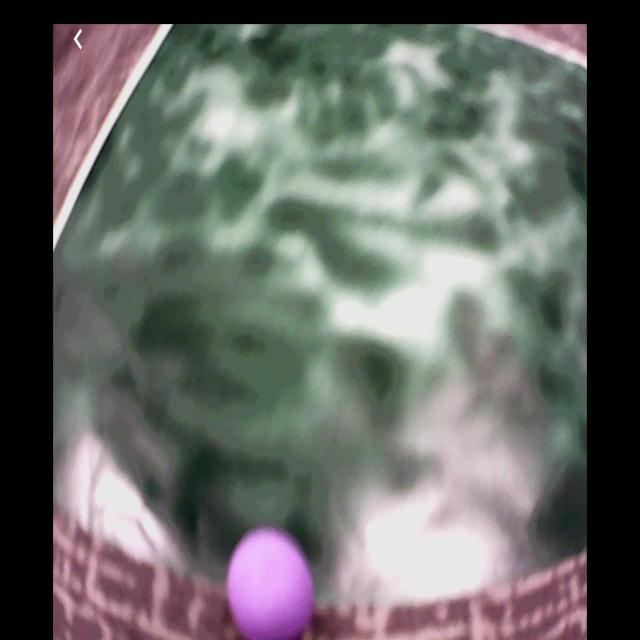ball: (227, 533, 315, 640)
